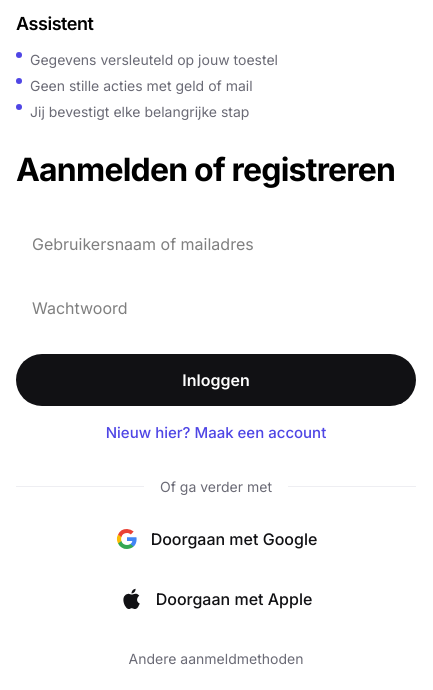
it: houdt gebruikersnaam en wachtwoord zichtbaar met de aanbieders daaronder
Expected: the button "Doorgaan met Google" is shown, [16,512,416,564]
Expected: the 1st icon is shown, [115,526,139,550]
Click the button "Andere aanmeldmethoden" at (216, 658), box [16,636,416,680]
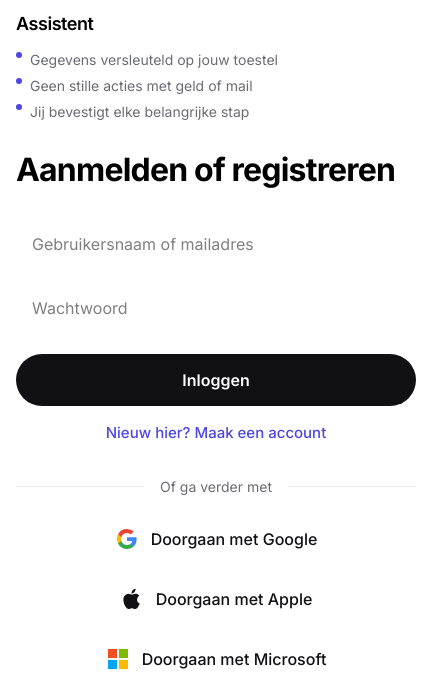
Expected: the button "Doorgaan met Microsoft" is shown, [16,632,416,684]
